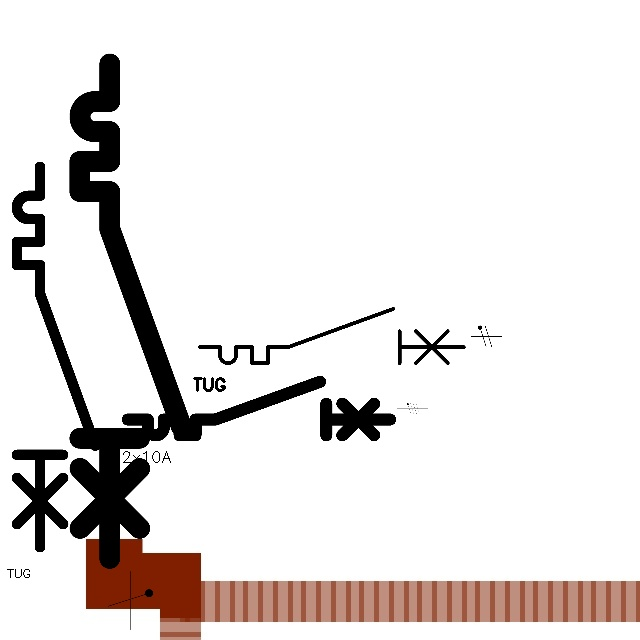interruptor_termomagnetico: (67, 51, 194, 571), (7, 157, 105, 557), (193, 302, 471, 370), (121, 375, 397, 442)
